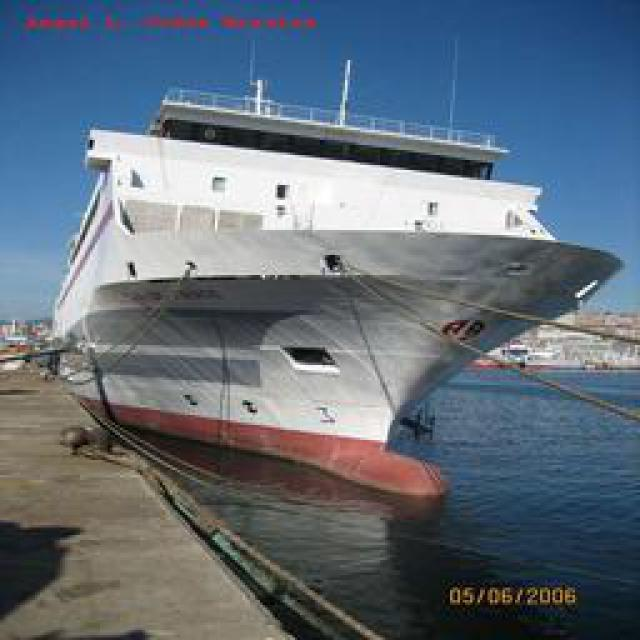Ship: (46, 81, 626, 549)
